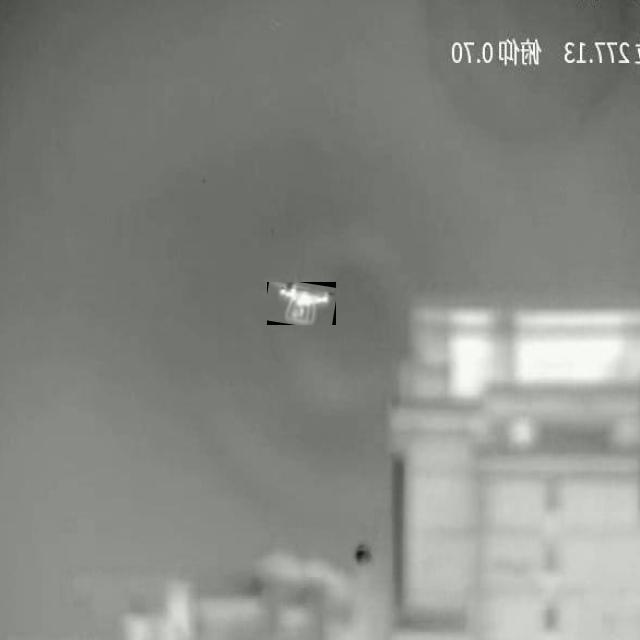drone: (271, 282, 336, 325)
